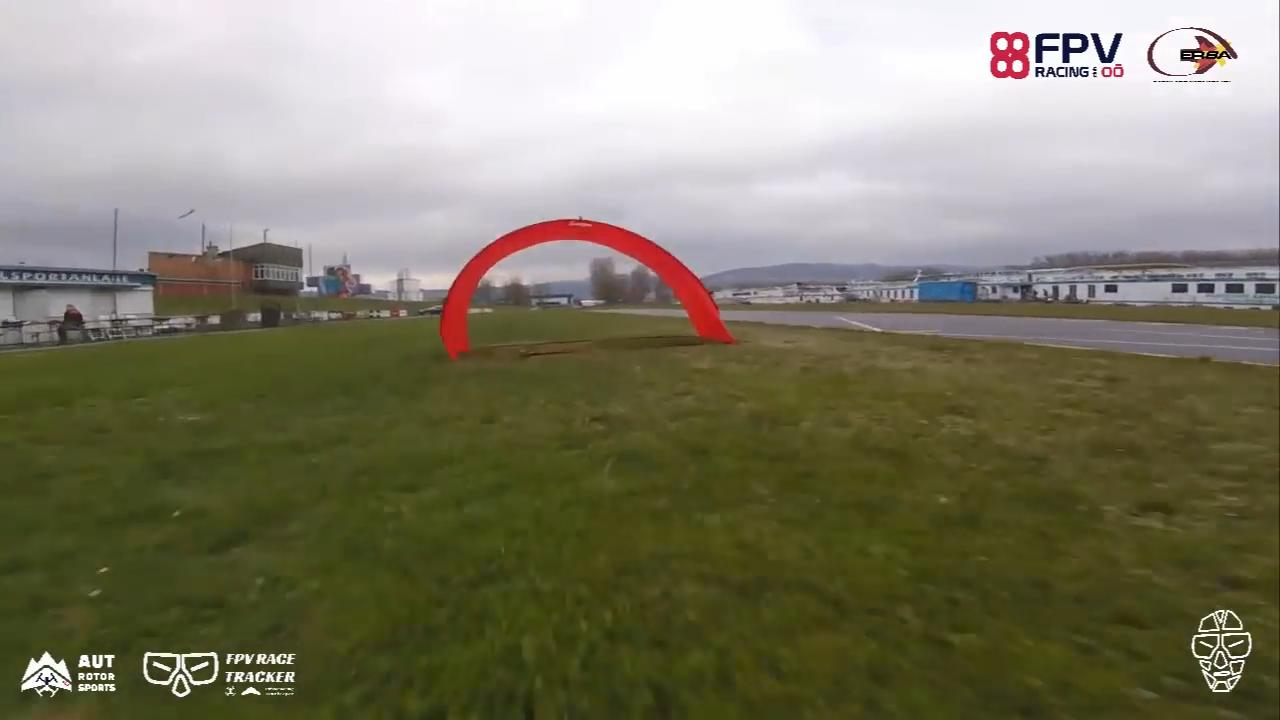gate: (435, 213, 738, 360)
